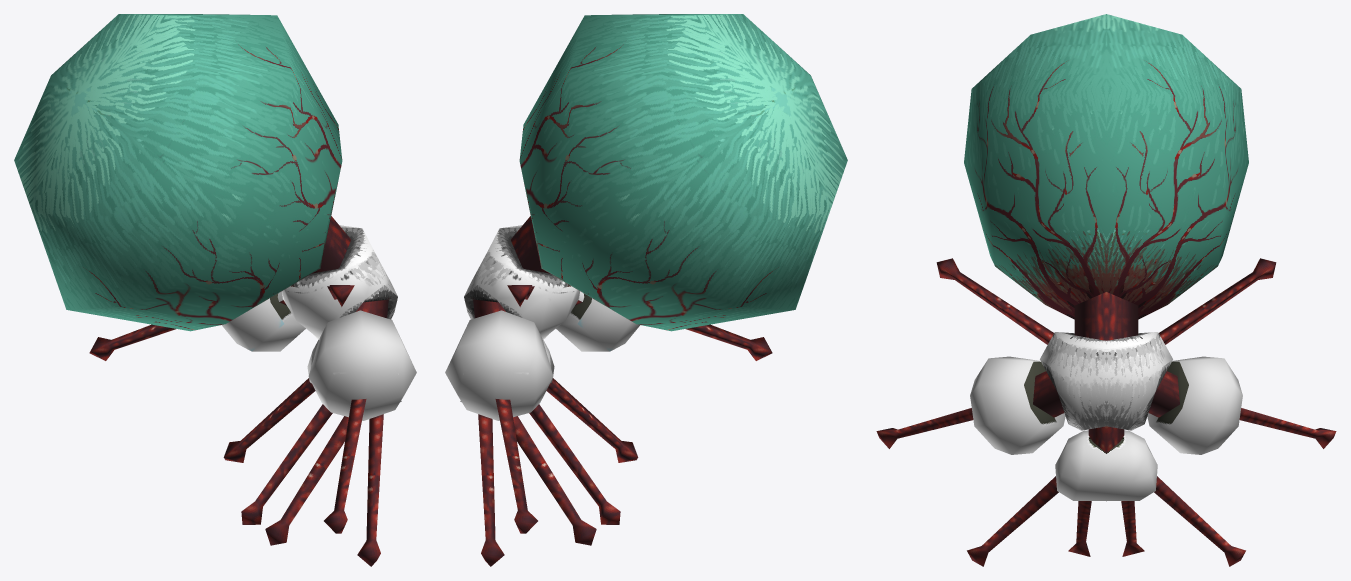
File: geocyte_01.glb
The picture shows the model from 3 angles, left to right: view 1: azimuth 30°, elevation 25°; view 2: azimuth 150°, elevation 25°; view 3: azimuth 270°, elevation 25°; orthographic projection. The views are drawn at different scales.
Parts seen in each view (by area): view 1: Cube.009; view 2: Cube.009; view 3: Cube.009.
Boxes of the visible parts, <box> form: Cube.009: <box>14,14,416,566</box>; Cube.009: <box>445,14,847,566</box>; Cube.009: <box>876,14,1336,566</box>.
Bounding box in the file's own units: 2.3 × 3.32 × 2.78.
1 material, 1 textured.
